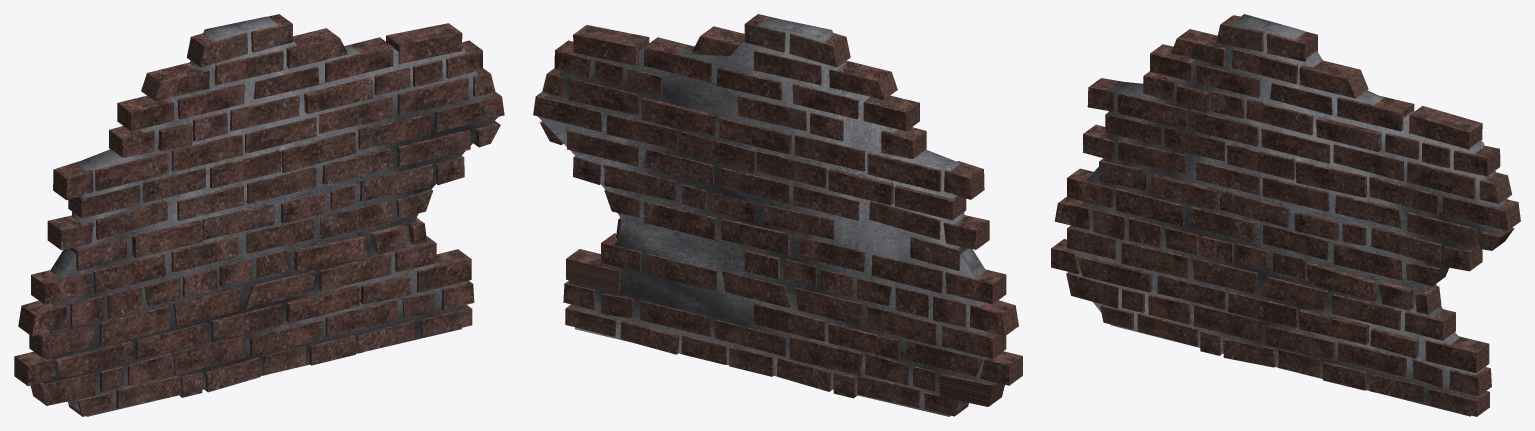
The model's file is prop_redbrick_wall_debris_03.glb.
3 renders of one model, left to right at view 1: azimuth 30°, elevation 25°; view 2: azimuth 150°, elevation 25°; view 3: azimuth 330°, elevation 25°, orthographic. The views are drawn at different scales.
Bounding box in the file's own units: 91.22 × 64.37 × 5.95.
Materials: 2 (2 with a texture image).
